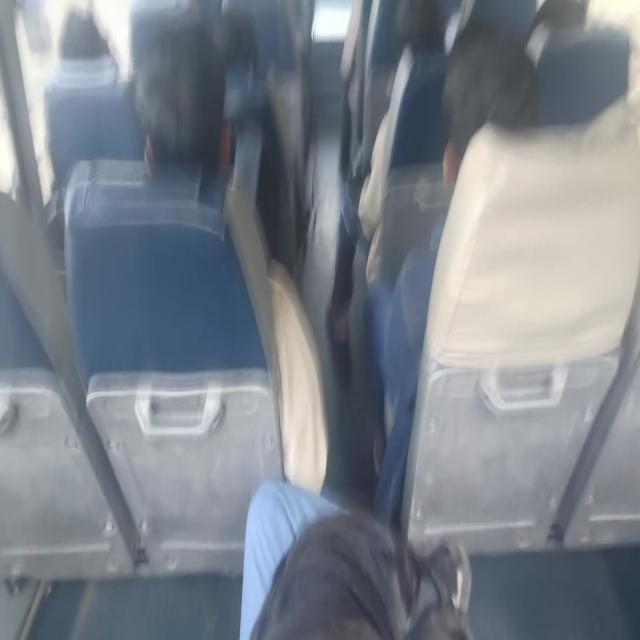person: (137, 44, 237, 187), (437, 48, 536, 188), (56, 0, 113, 75), (206, 0, 257, 71), (400, 0, 448, 69)
